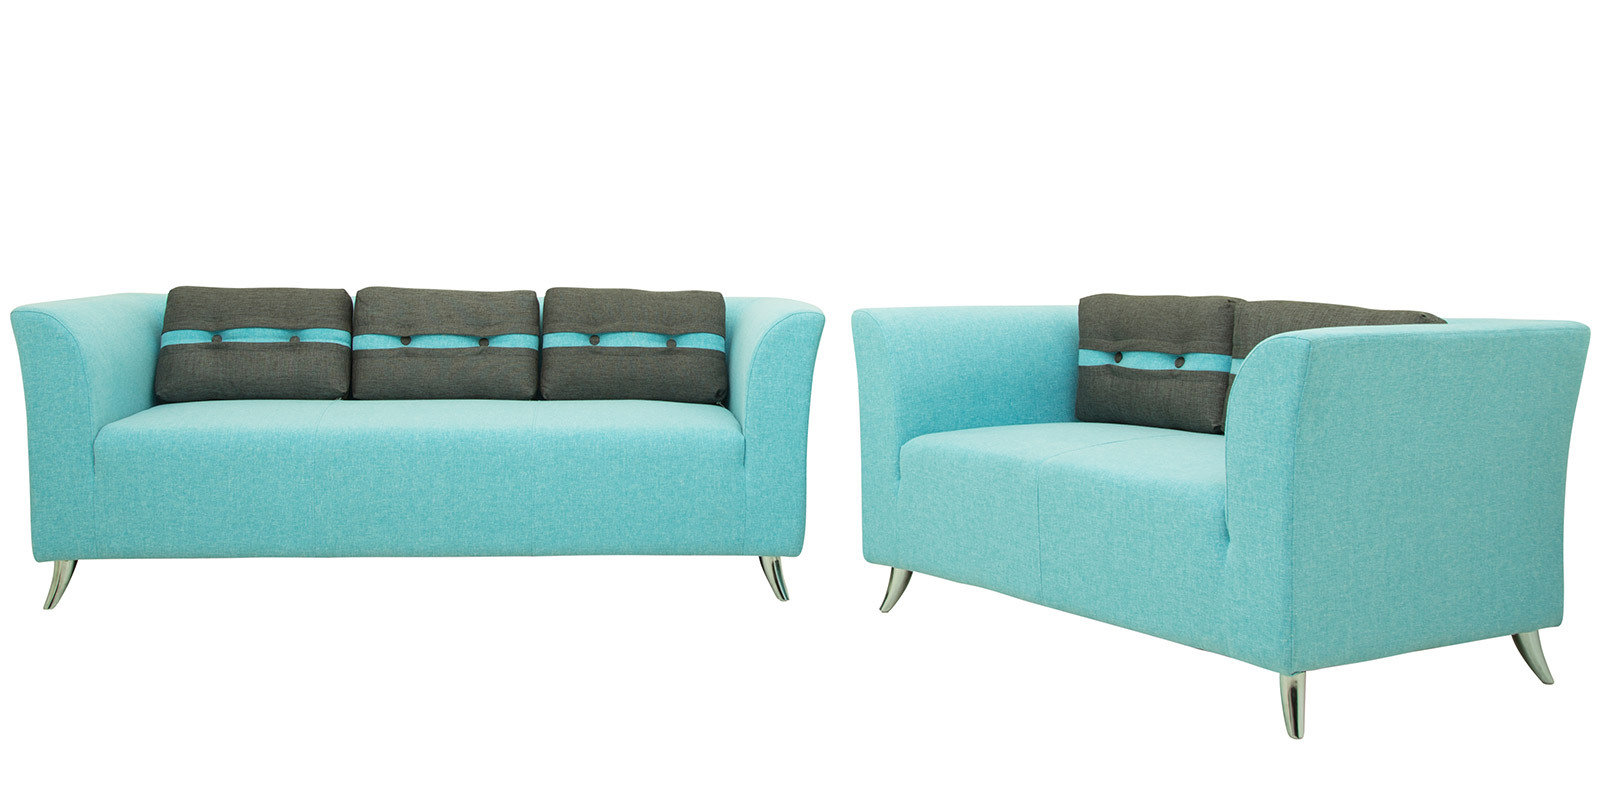Iowa Three Seater Sofa in Celeste Blue Colour by Furnitech: (840, 285, 1584, 763), (3, 272, 824, 626)
